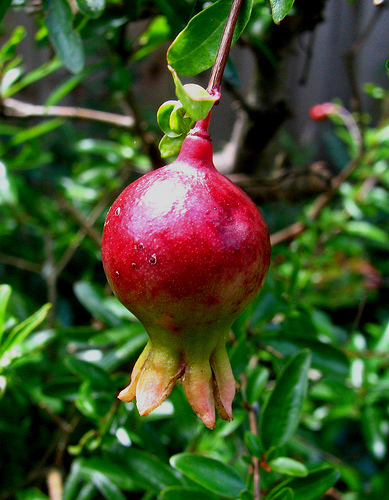pomogranate: (101, 0, 270, 427)
